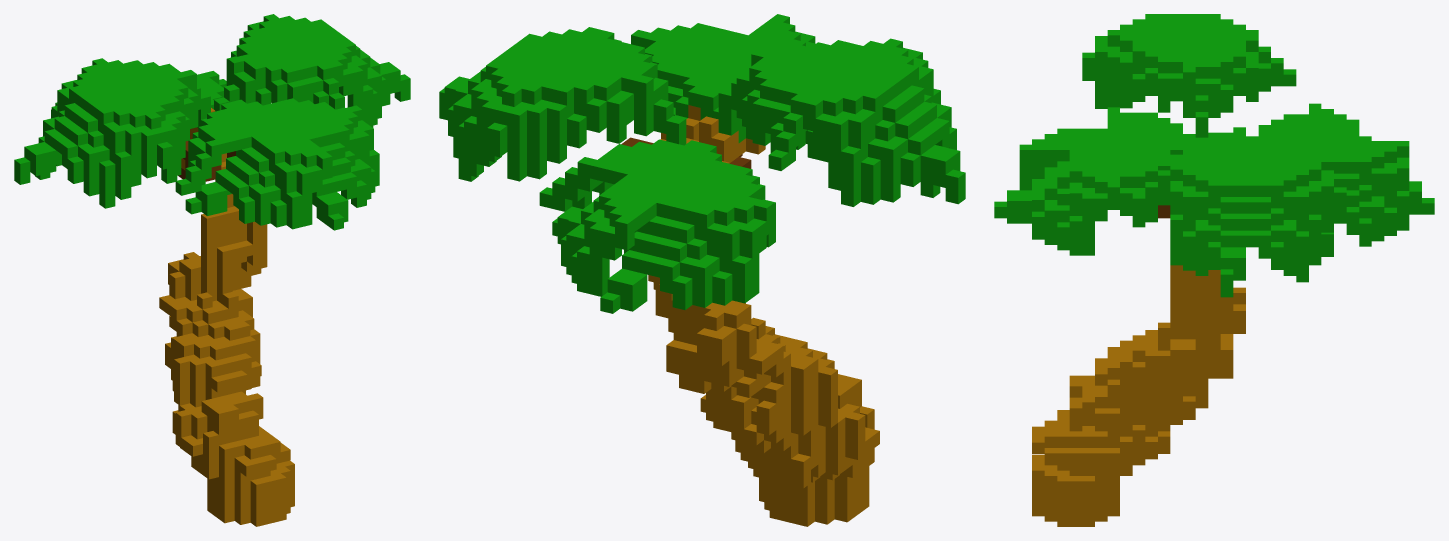
Rendered from Palm tree.obj.
The picture shows the model from 3 angles, left to right: view 1: azimuth 30°, elevation 25°; view 2: azimuth 150°, elevation 25°; view 3: azimuth 270°, elevation 25°; orthographic projection. The views are drawn at different scales.
Bounding box in the file's own units: 40 × 38 × 35.
1 material, 1 textured.
